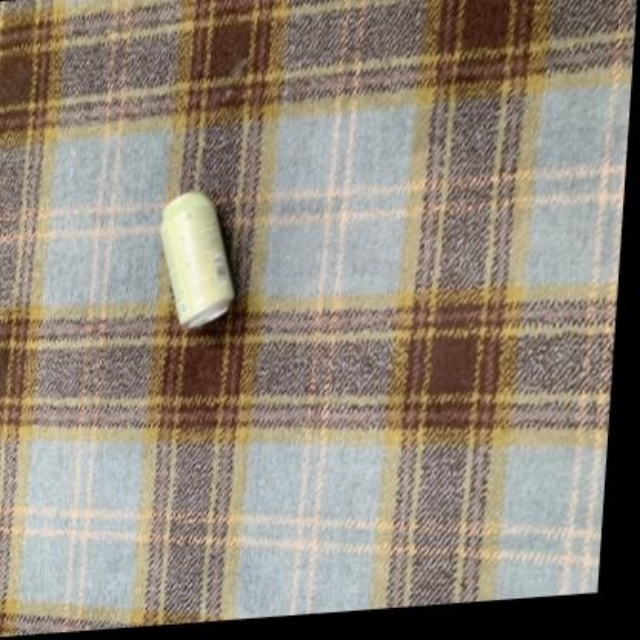trash: (160, 192, 232, 328)
